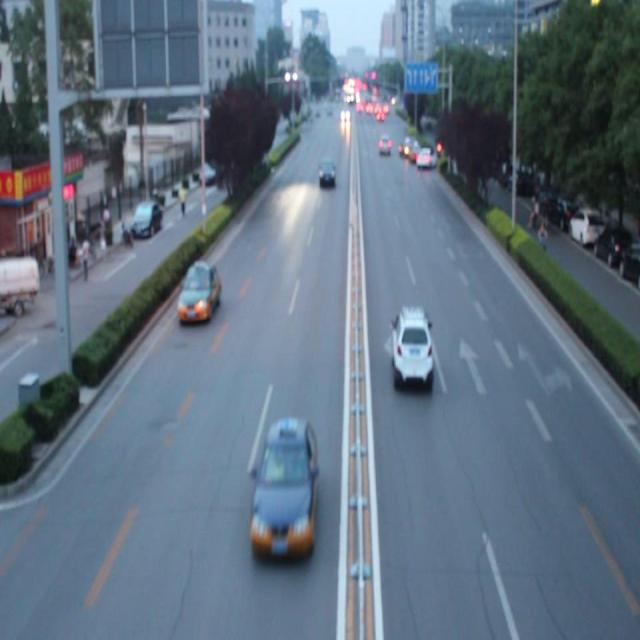car: (249, 413, 319, 560), (390, 304, 435, 391), (176, 258, 220, 325)
